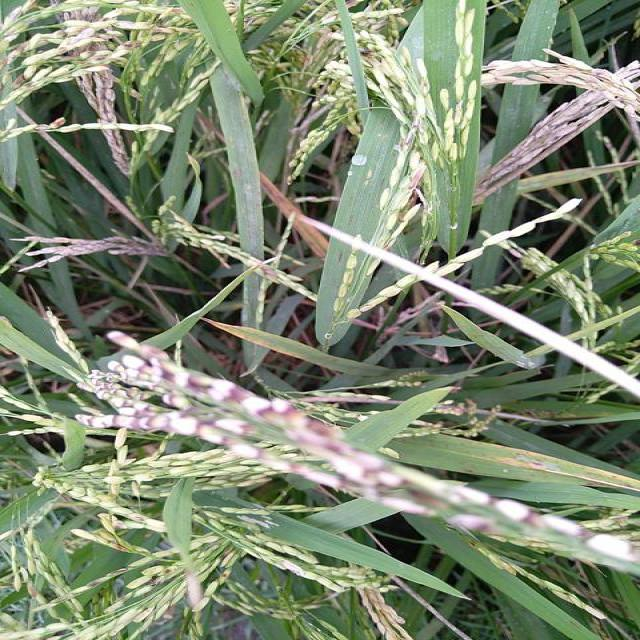Panicle Blight: (107, 333, 548, 528), (75, 370, 341, 488), (108, 361, 192, 411), (359, 587, 415, 639), (76, 72, 116, 124), (579, 529, 636, 560), (399, 166, 428, 222), (101, 130, 129, 176), (87, 568, 129, 588), (0, 41, 29, 68), (56, 6, 100, 23), (445, 515, 491, 531), (64, 42, 107, 57), (400, 125, 419, 158), (213, 420, 249, 435), (149, 24, 175, 42), (256, 263, 281, 281), (216, 548, 235, 568), (359, 43, 373, 70), (12, 67, 27, 89), (108, 540, 133, 553), (27, 573, 39, 600), (215, 569, 232, 584), (124, 38, 140, 53), (45, 119, 64, 131), (345, 0, 364, 9), (112, 521, 128, 531), (163, 568, 175, 577)
